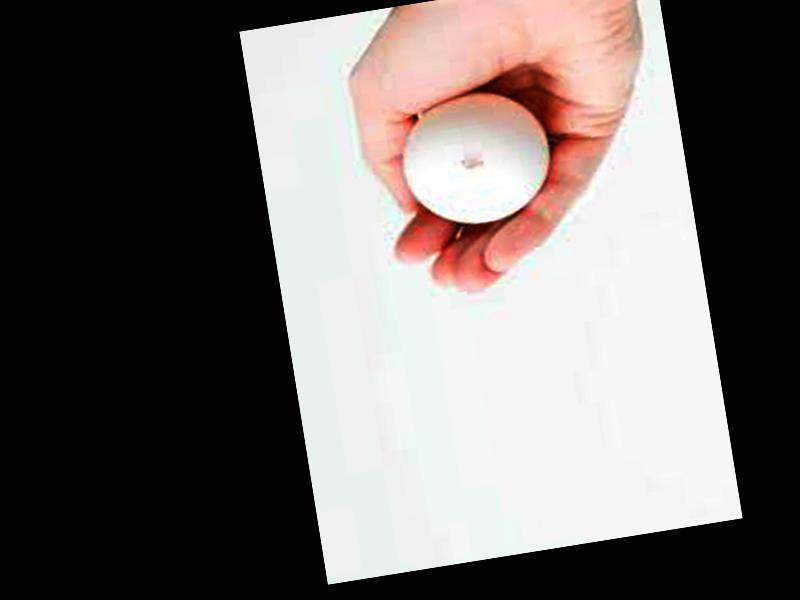Eggs: (398, 85, 556, 233)
